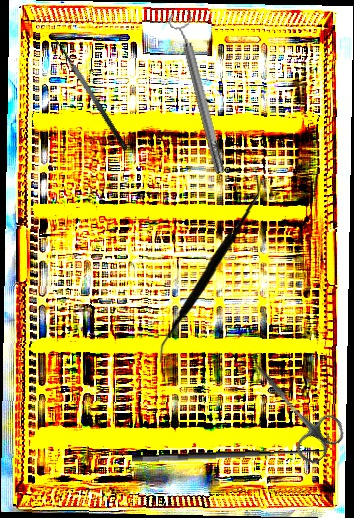Fixation Ring: (166, 9, 232, 177)
Hook Surgical: (131, 432, 330, 466)
Iris Scissors: (232, 346, 351, 469)
Spatula Surgical: (154, 174, 263, 364), (43, 31, 129, 157)
